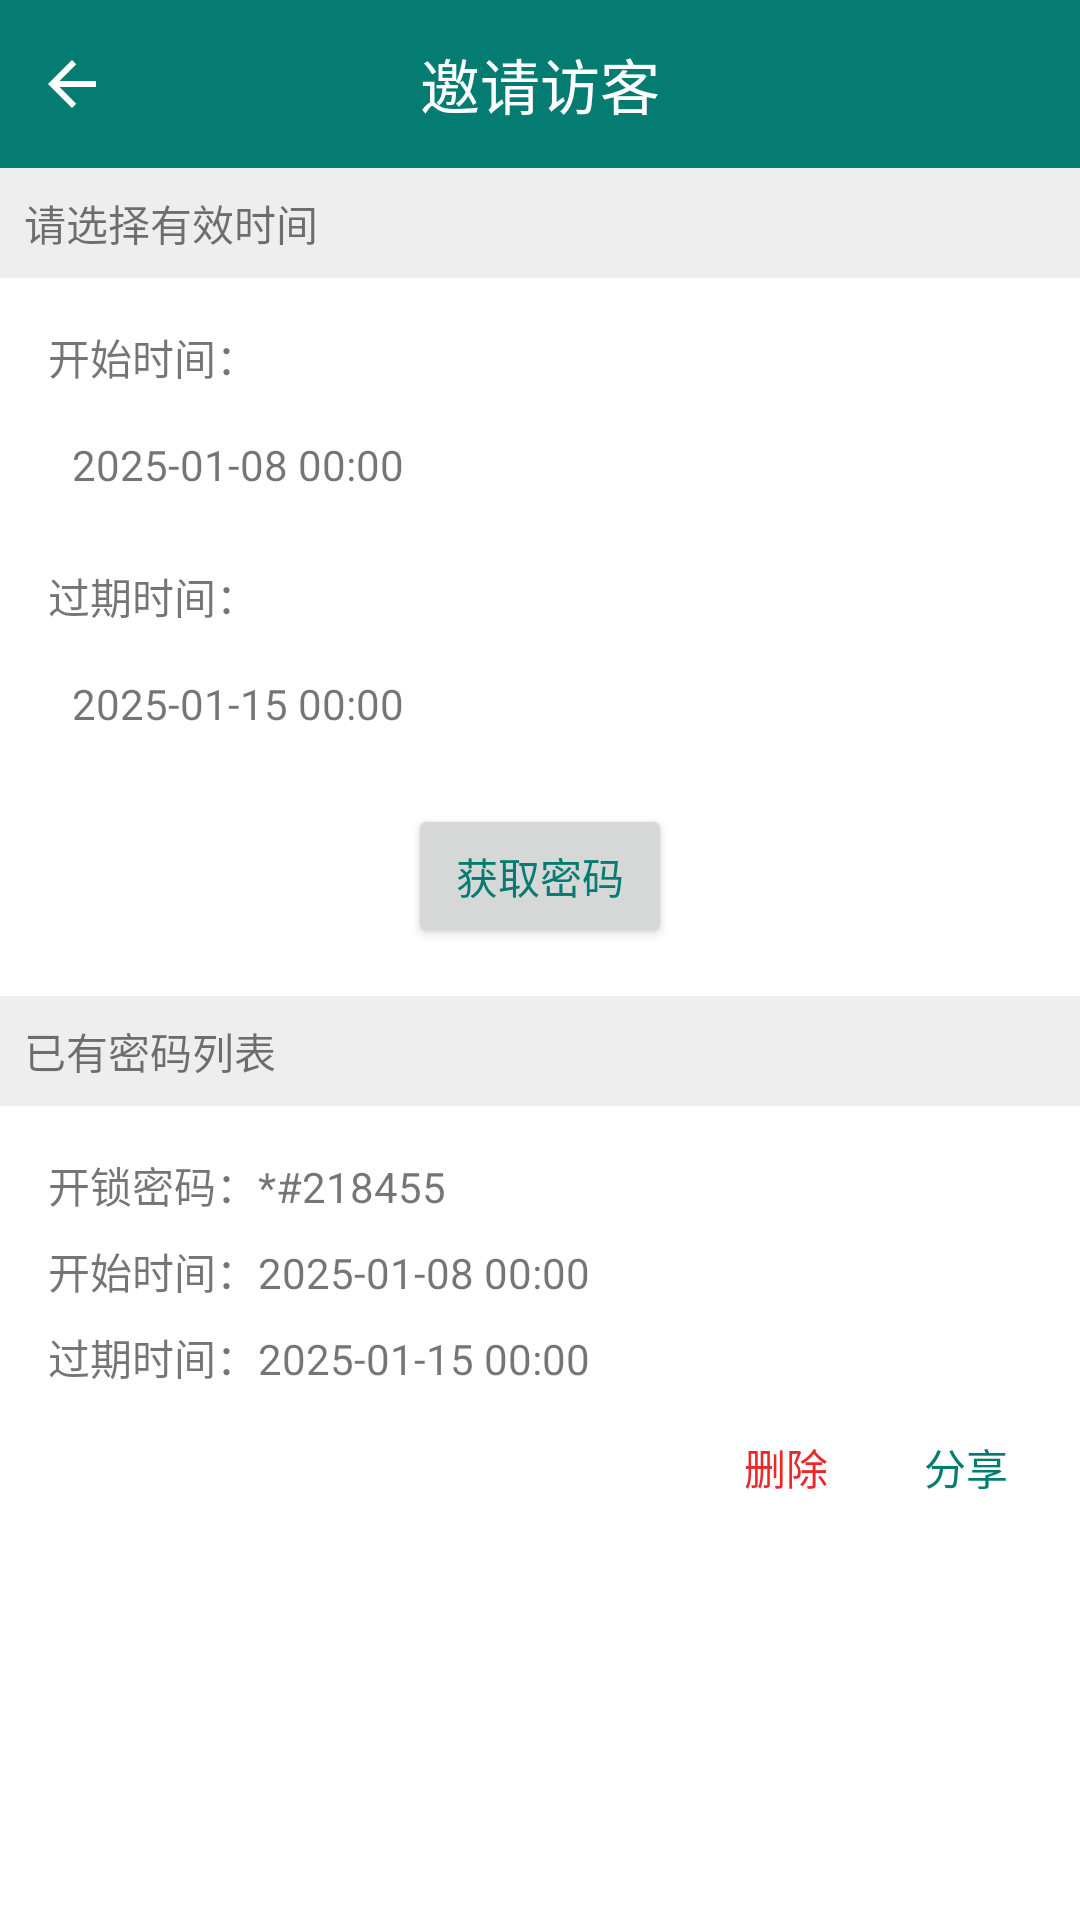

Where icons sit on this 1080 × 1920 app screen, as (x1=x1, y1=y1, x2=x2, y2=y2):
返回: (x1=48, y1=60, x2=96, y2=108)
